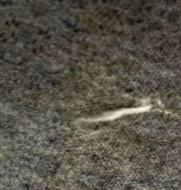snag: (81, 100, 158, 128)
